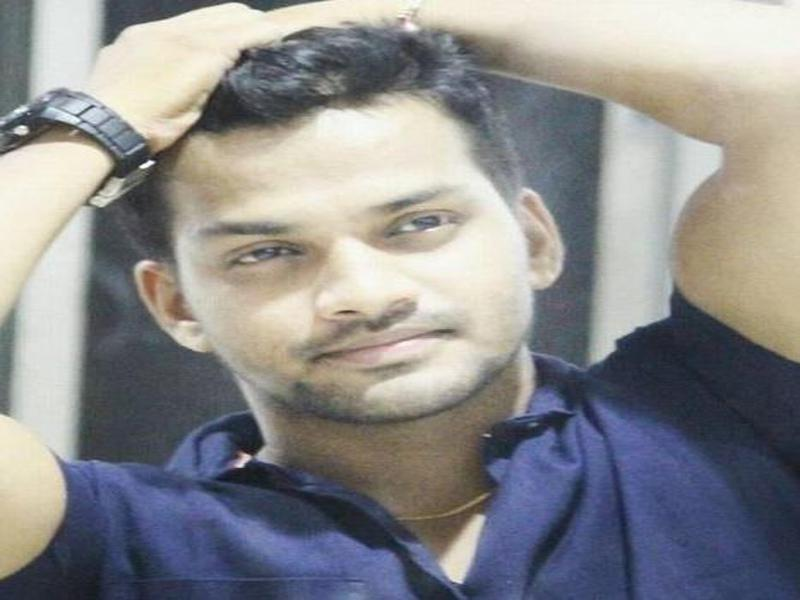without_mask: (178, 142, 534, 419)
